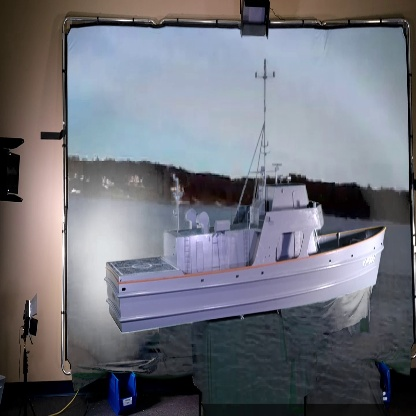YP689: (104, 56, 388, 335)
